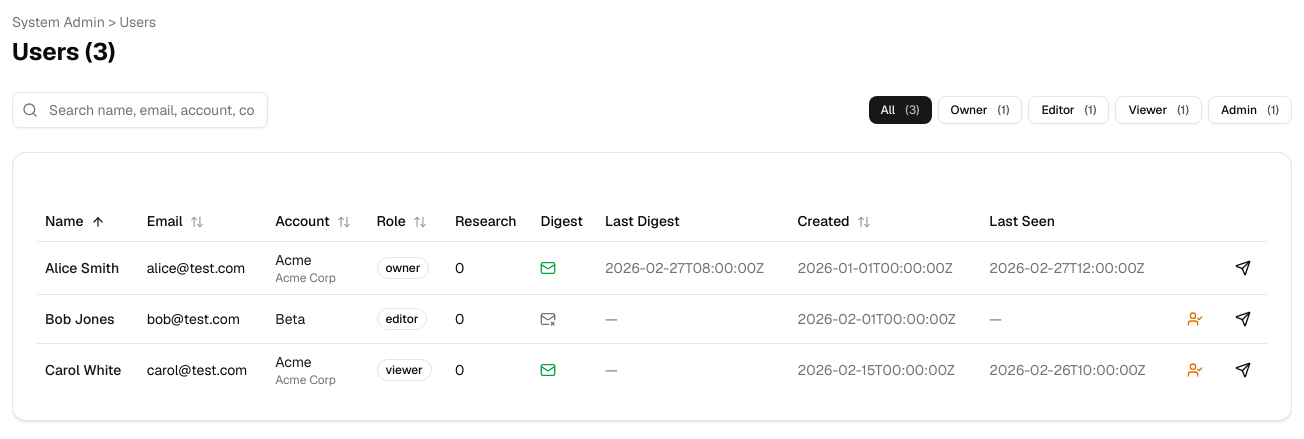
Test: UsersListPage › filters by search term
Expected: the link "Alice Smith" is shown, [45,258,119,276]
Type "bob" into the field with placeholder "Search name, email, account, company...".
click(140, 110); type("bob")  # box [12,92,268,128]
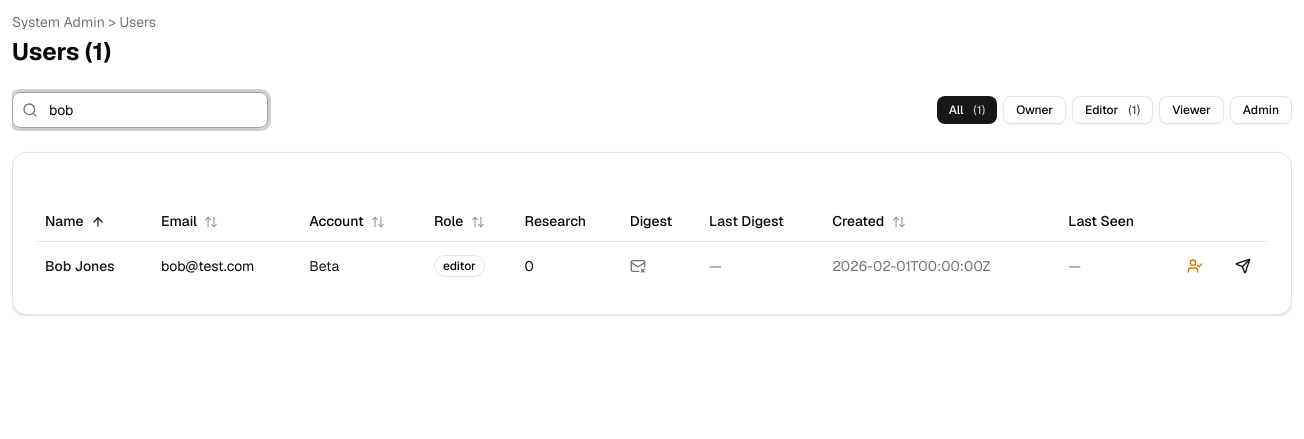
Expected: the link "Bob Jones" is shown, [45,256,115,274]
Expected: the link "Alice Smith" is gone
